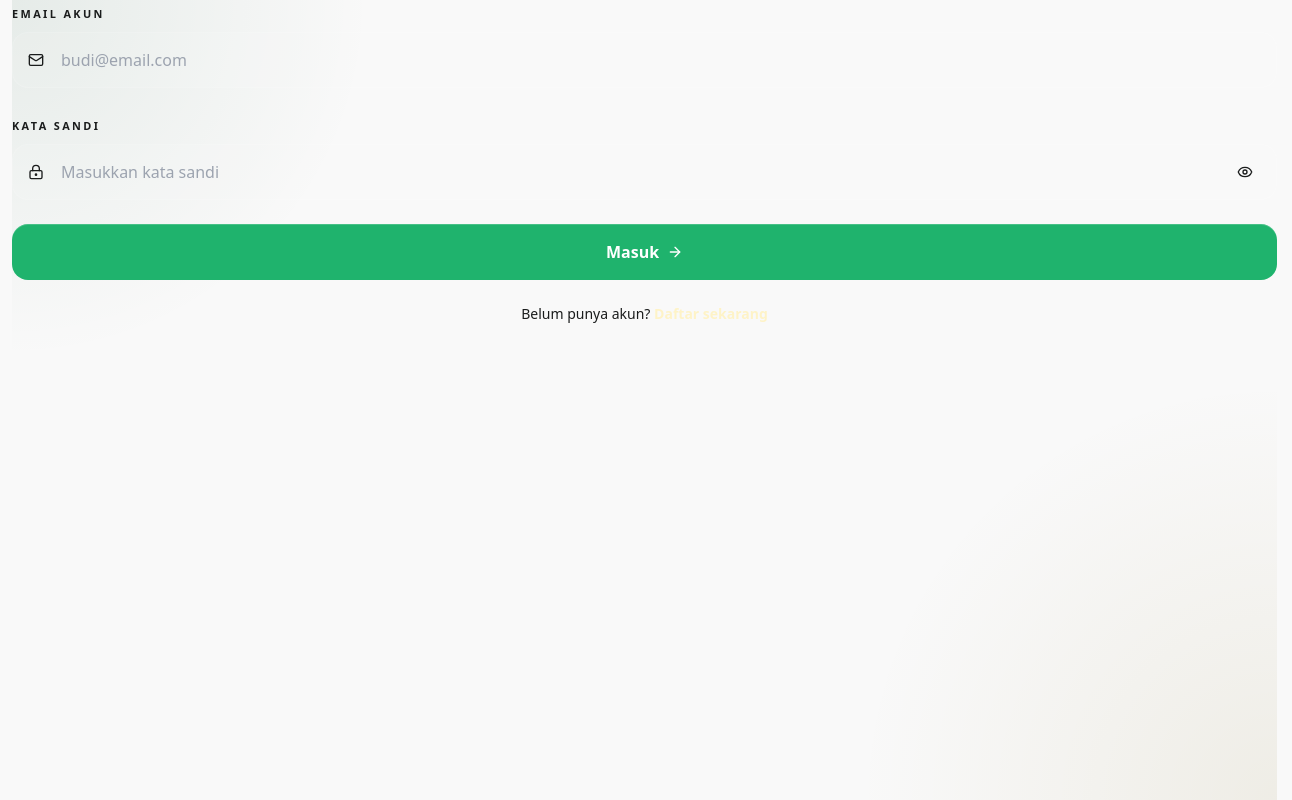
LoginForm › lets the buyer reveal the password and shows failed login feedback
The image size is (1292, 800).
Click the button named "tampilkan kata sandi".
click(1245, 172)  # box [1229,156,1261,188]
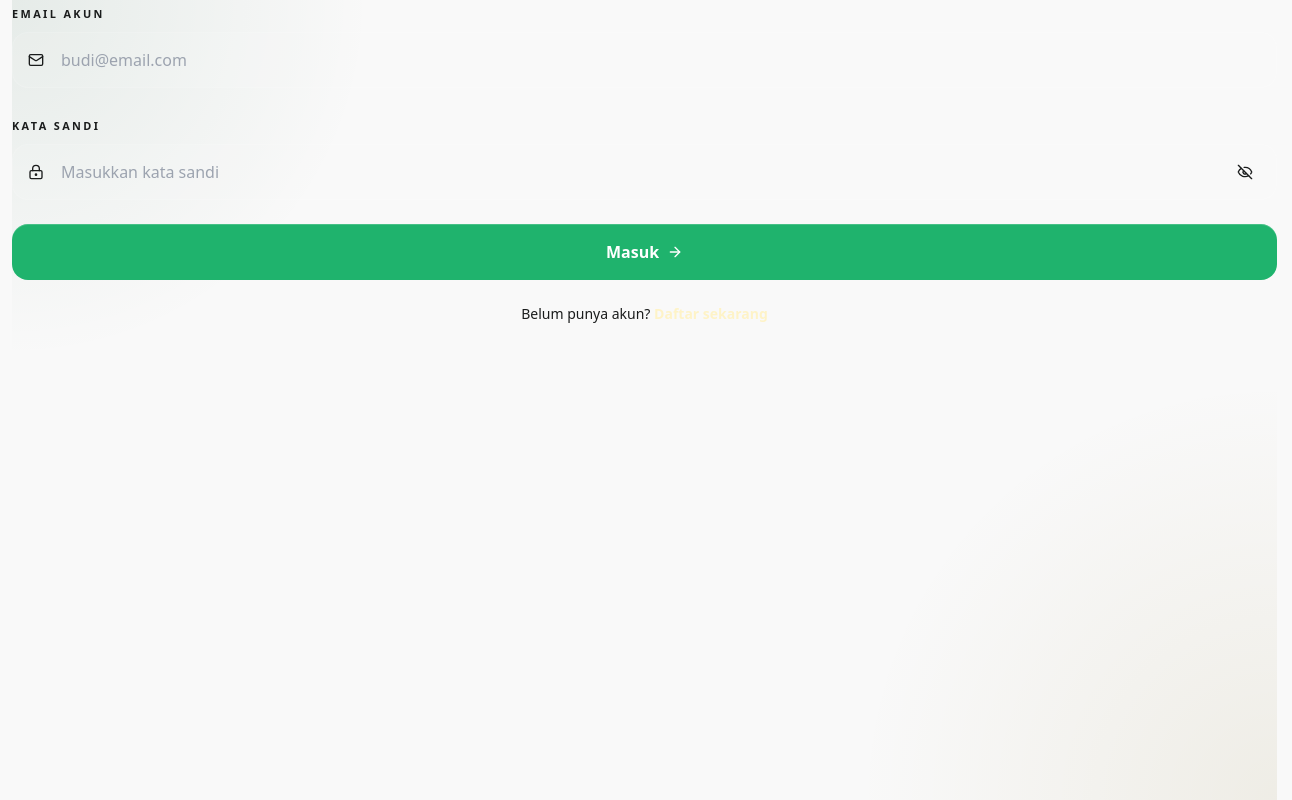
Type "buyer.demo@example.com" into the field labelled "Email akun".
click(644, 60); type("buyer.demo@example.com")  # box [12,32,1277,88]
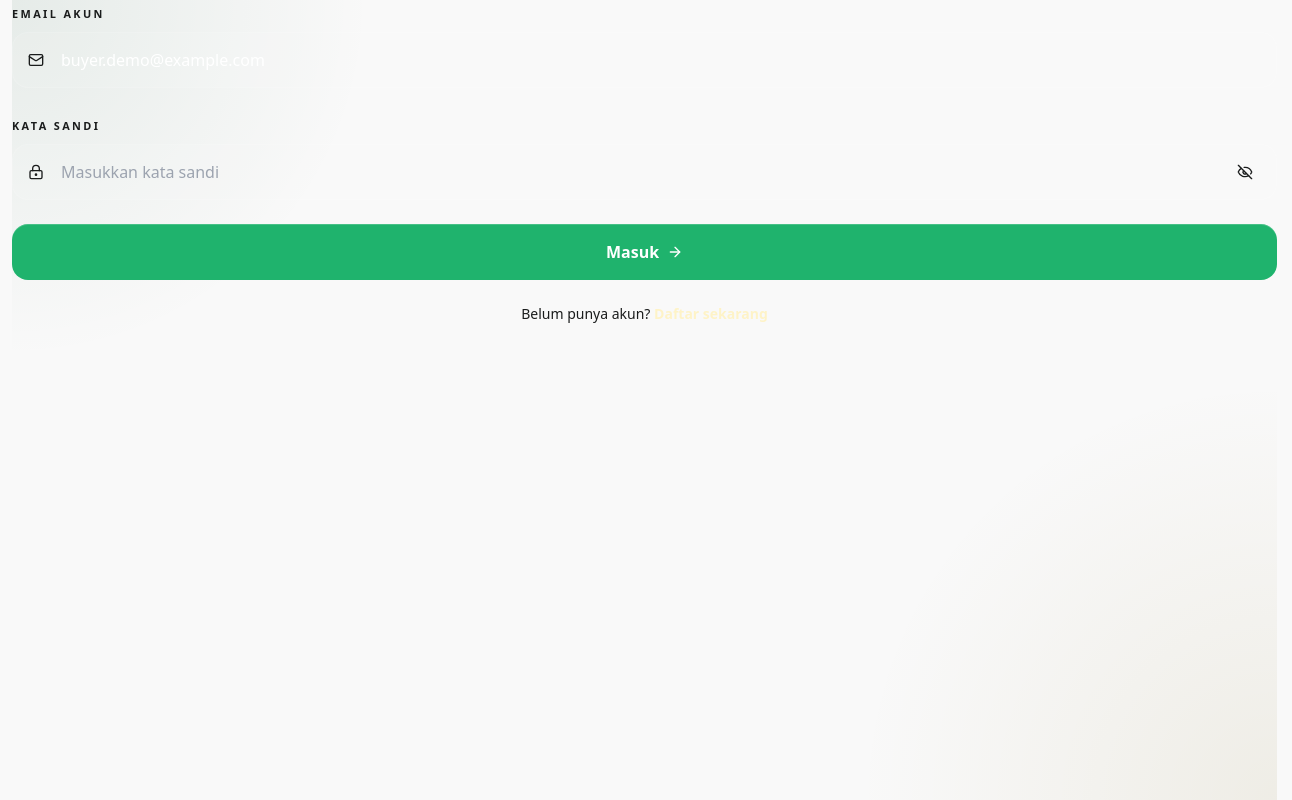
Type "password-rahasia" into the field labelled "Kata sandi".
click(644, 172); type("password-rahasia")  # box [12,144,1277,200]
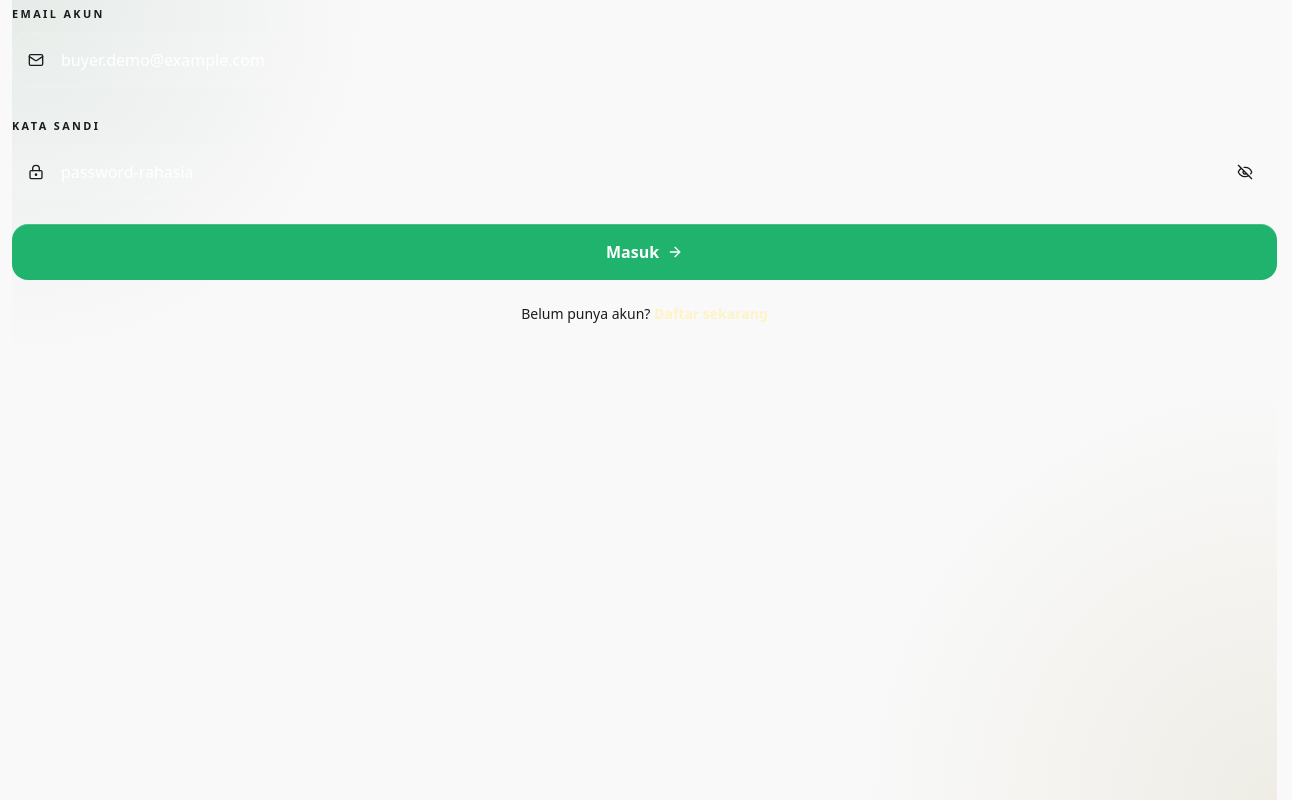
Click the button "Masuk".
click(644, 252)  # box [12,224,1277,280]
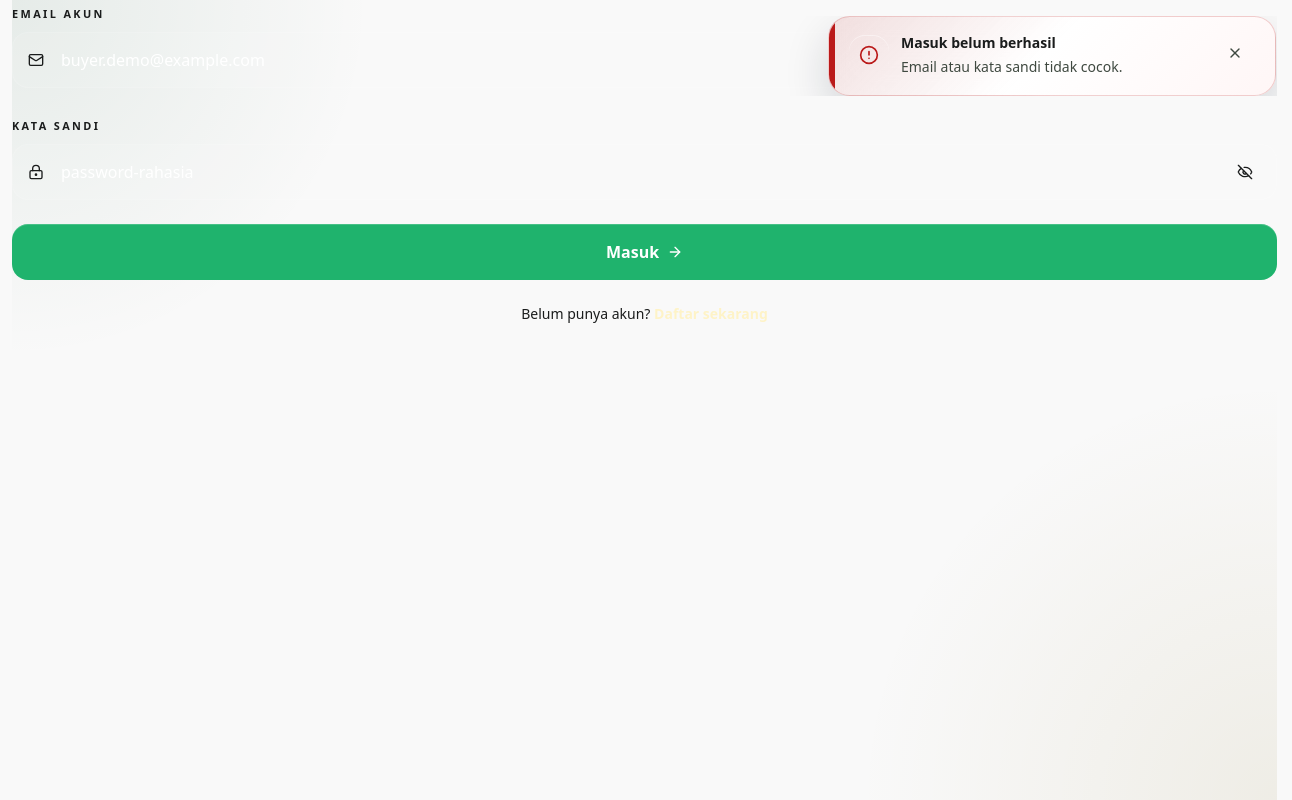
Check: the message shows "Masuk belum berhasil", box [901,33,1056,52]
Check: the message shows "Email atau kata sandi tidak cocok.", box [901,57,1122,76]
